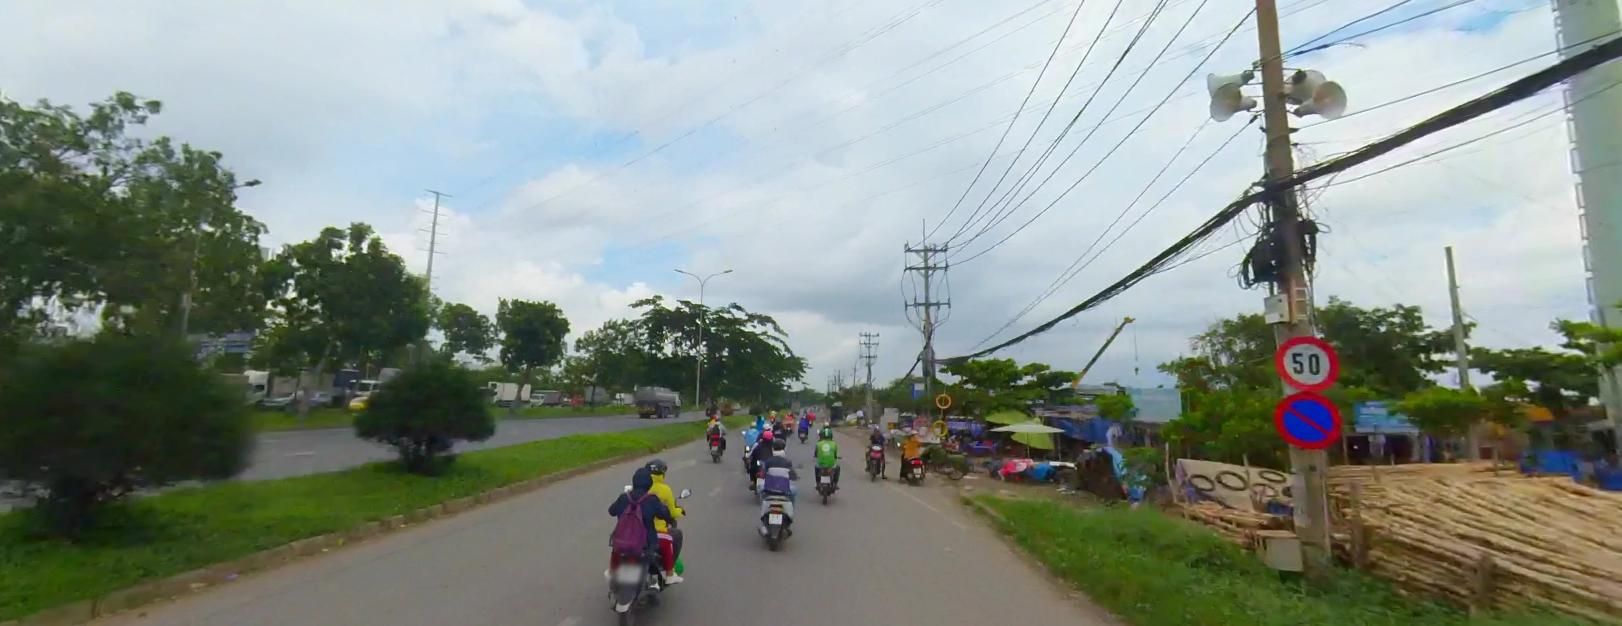Cam dung va do: (1271, 387, 1343, 447)
Gioi han toc do: (1276, 333, 1340, 389)
